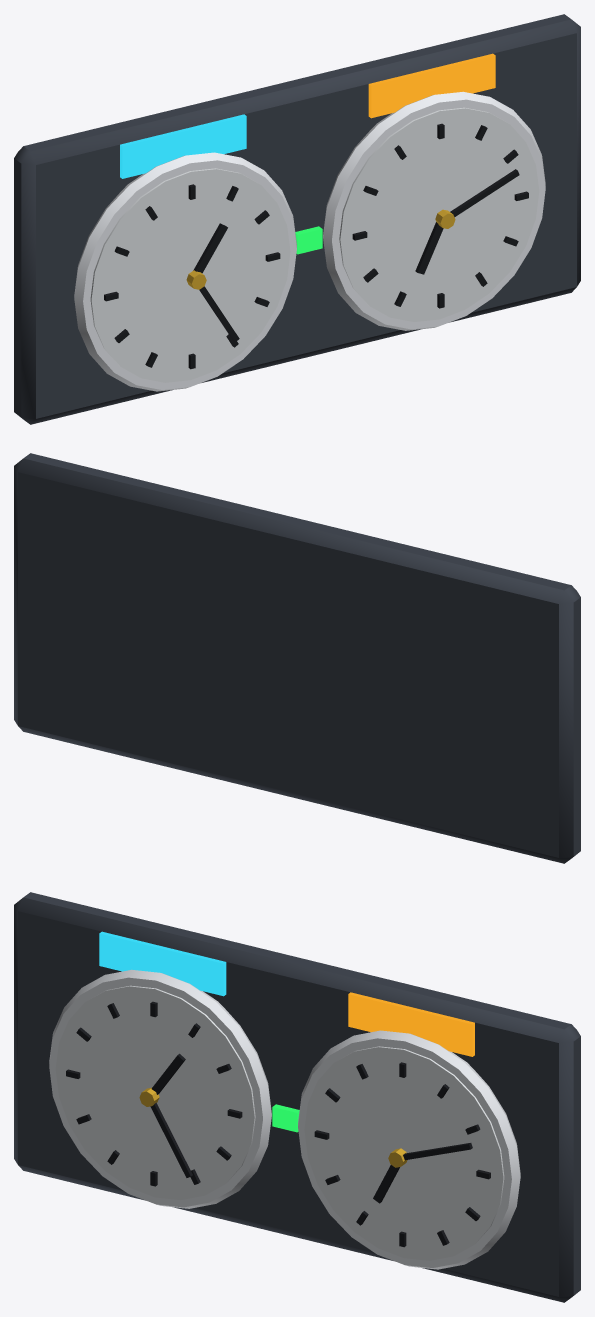
File: clock_dual_time_ship_clock.glb
3 renders of one model, top to bottom at view 1: azimuth 30°, elevation 25°; view 2: azimuth 150°, elevation 25°; view 3: azimuth 330°, elevation 25°, orthographic.
Visible parts, largest first — view 1: clock_dual_time_ship_clock; view 2: clock_dual_time_ship_clock; view 3: clock_dual_time_ship_clock.
Part boxes in pixels (left/top/right/bottom): clock_dual_time_ship_clock: left=14, top=14, right=580, bottom=424; clock_dual_time_ship_clock: left=14, top=453, right=580, bottom=863; clock_dual_time_ship_clock: left=14, top=892, right=580, bottom=1302.
Size of the model in its own units: 0.9 by 0.42 by 0.098.
